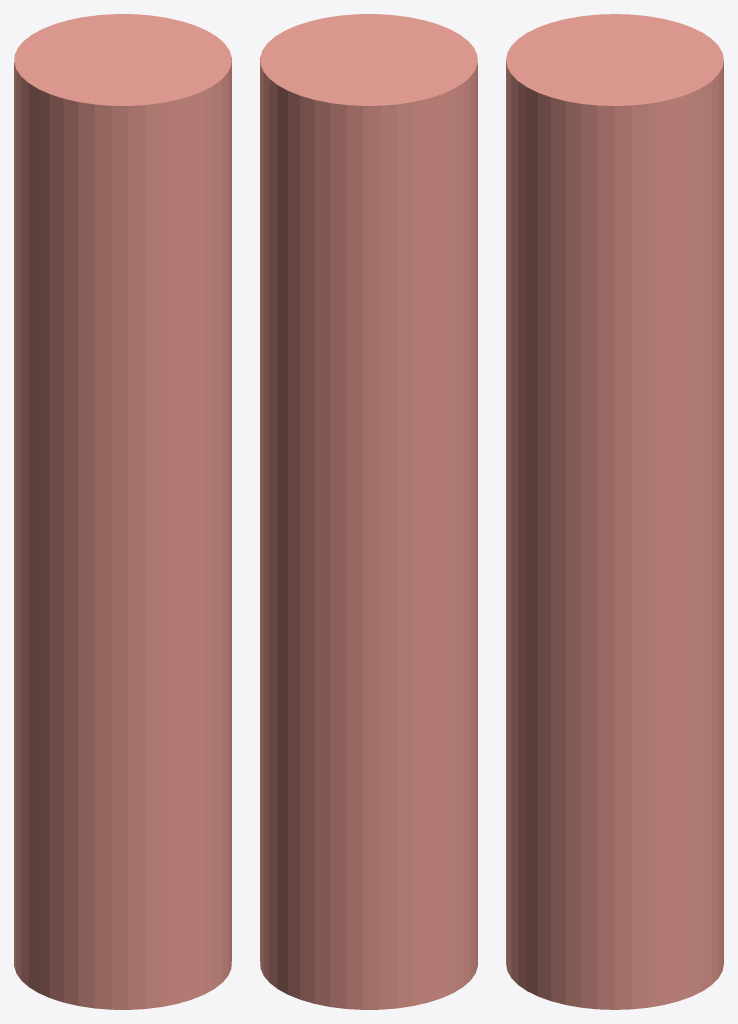
The model's file is gen_aerosol-can_00.glb.
The picture shows the model from 3 angles, left to right: view 1: azimuth 30°, elevation 25°; view 2: azimuth 150°, elevation 25°; view 3: azimuth 270°, elevation 25°; orthographic projection.
Parts seen in each view (by area): view 1: z-up-to-y-up; view 2: z-up-to-y-up; view 3: z-up-to-y-up.
Part boxes in pixels (x1,y1,x2,y2): z-up-to-y-up: (14, 14, 231, 1009); z-up-to-y-up: (260, 14, 477, 1009); z-up-to-y-up: (506, 14, 723, 1009).
Bounding box in the file's own units: 0.0509 × 0.2328 × 0.0509.
